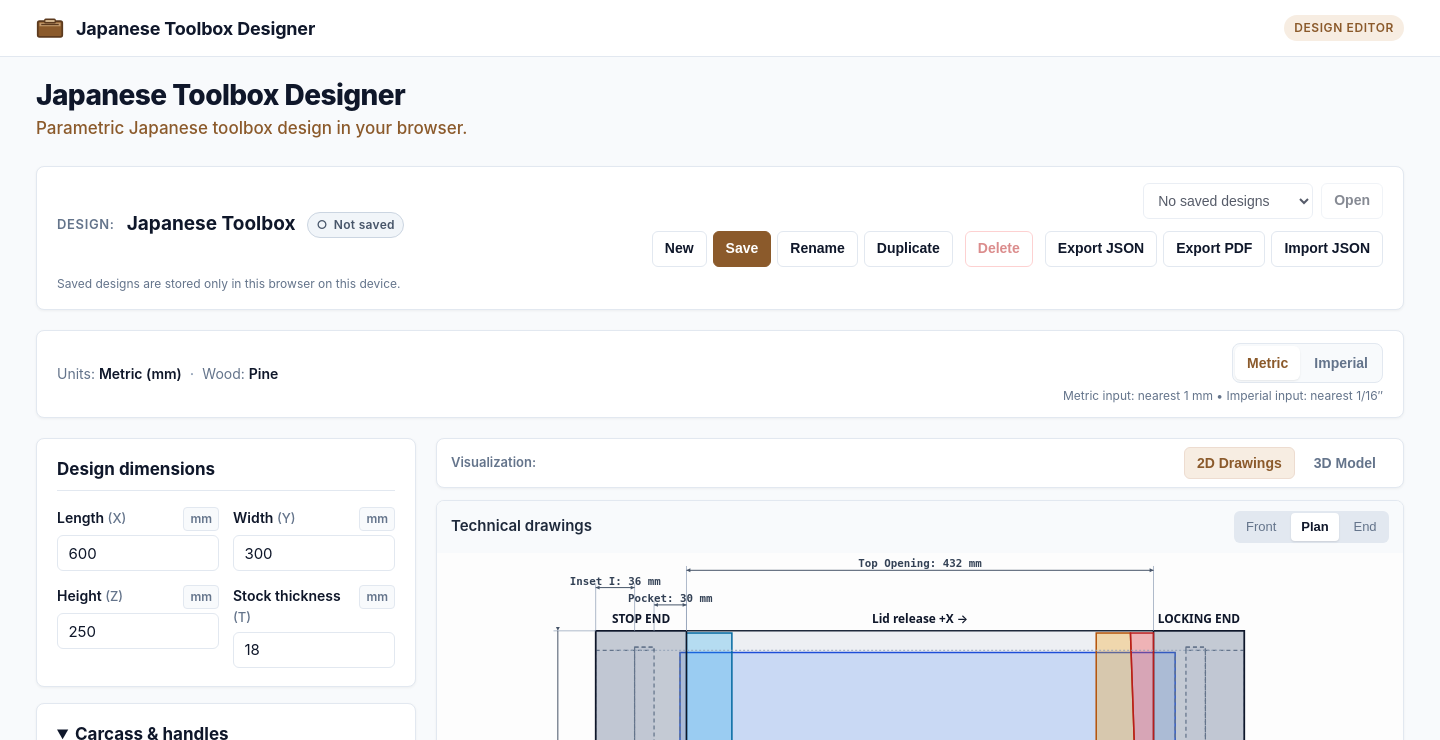
Test: App Component - Phase 7 Saved Designs Requirements › Requirement 53: disables Save and Duplicate when visible drafts contain parse errors
Clear the field labelled "Length (X)" at (138, 553), box [57,535,219,571]
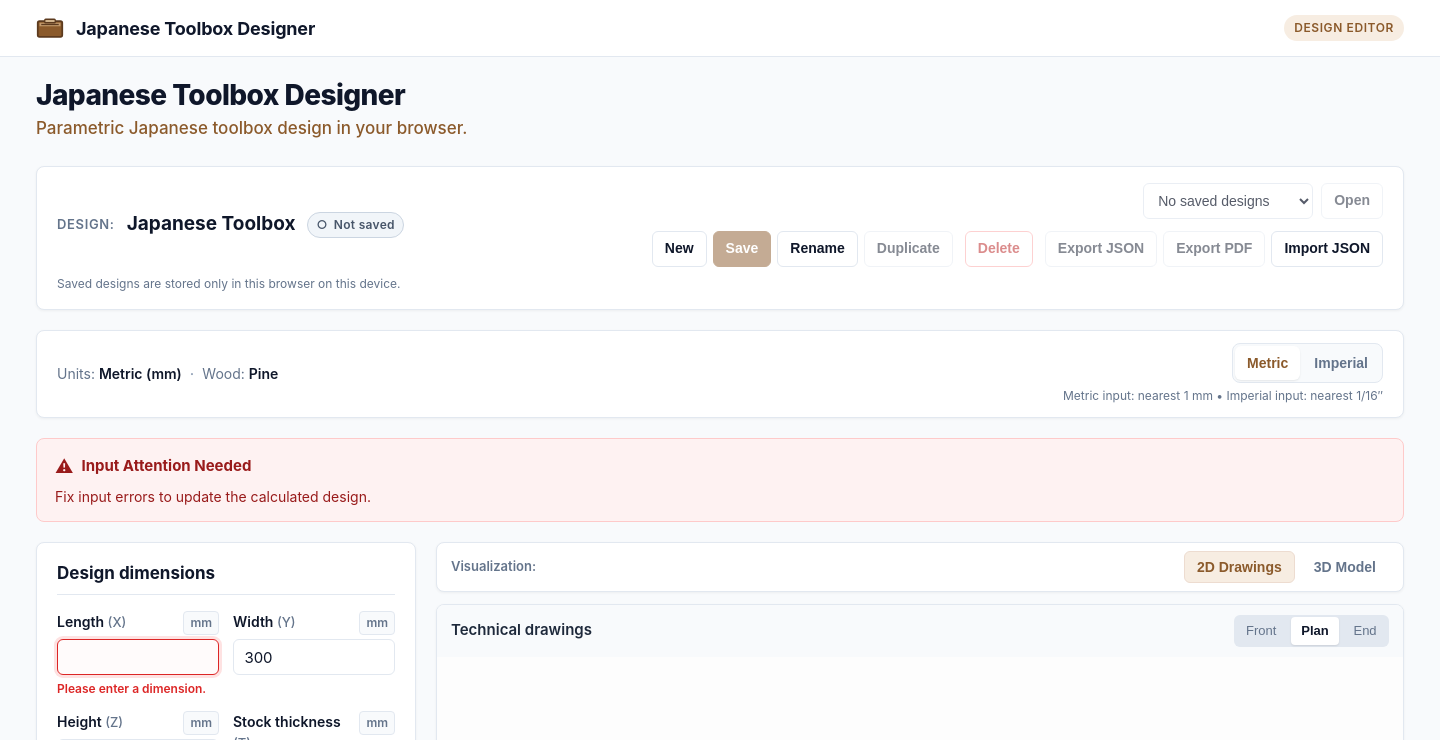
Type "invalid-num" into the field labelled "Length (X)" at (138, 657), box [57,639,219,675]
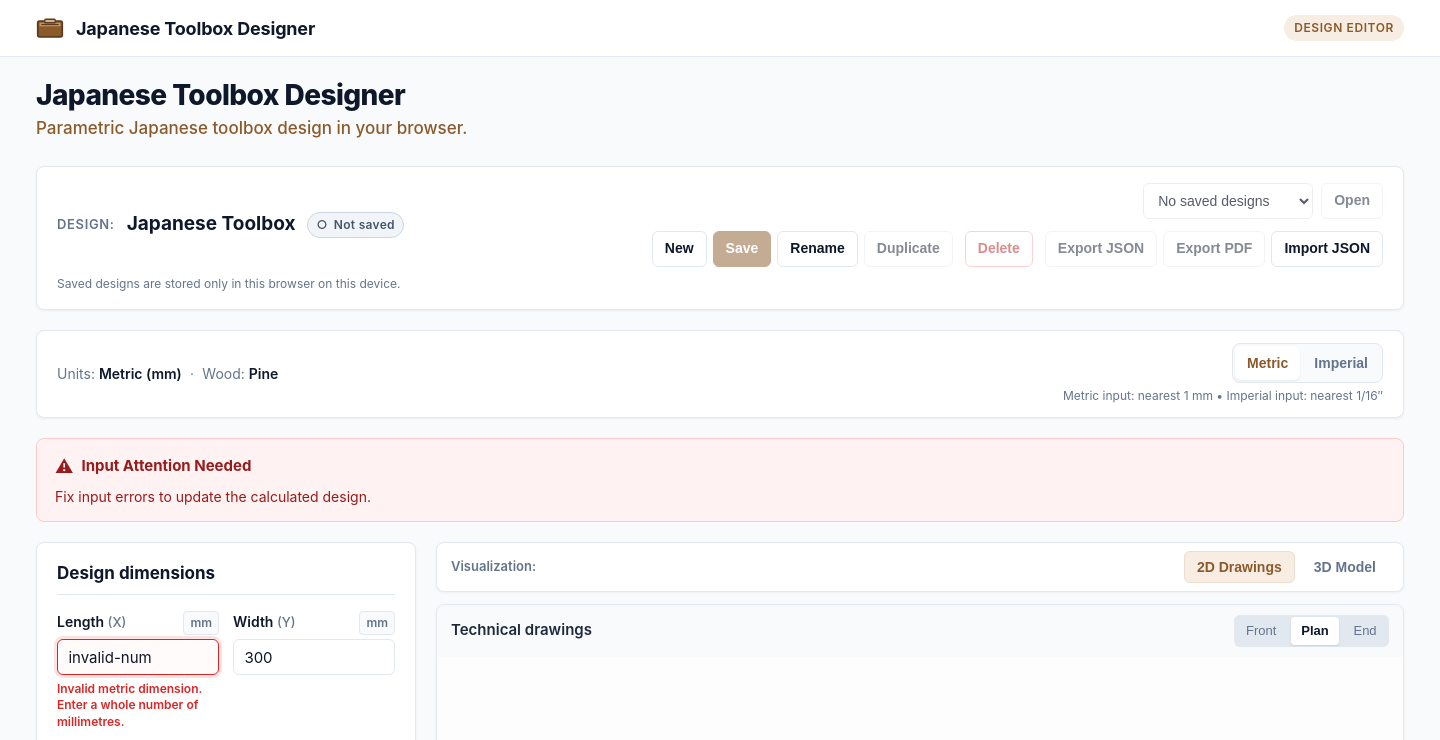
Result: the button "Save" is disabled at [713,231,771,267]
Result: the button "Duplicate" is disabled at [864,231,953,267]
Result: the text "Invalid metric dimension. Enter a whole number of millimetres." is shown at [57,681,219,730]
Note: Correcting the input restores functionality
Replace the text in the field labelled "Length (X)" with "600" at (138, 657), box [57,639,219,675]
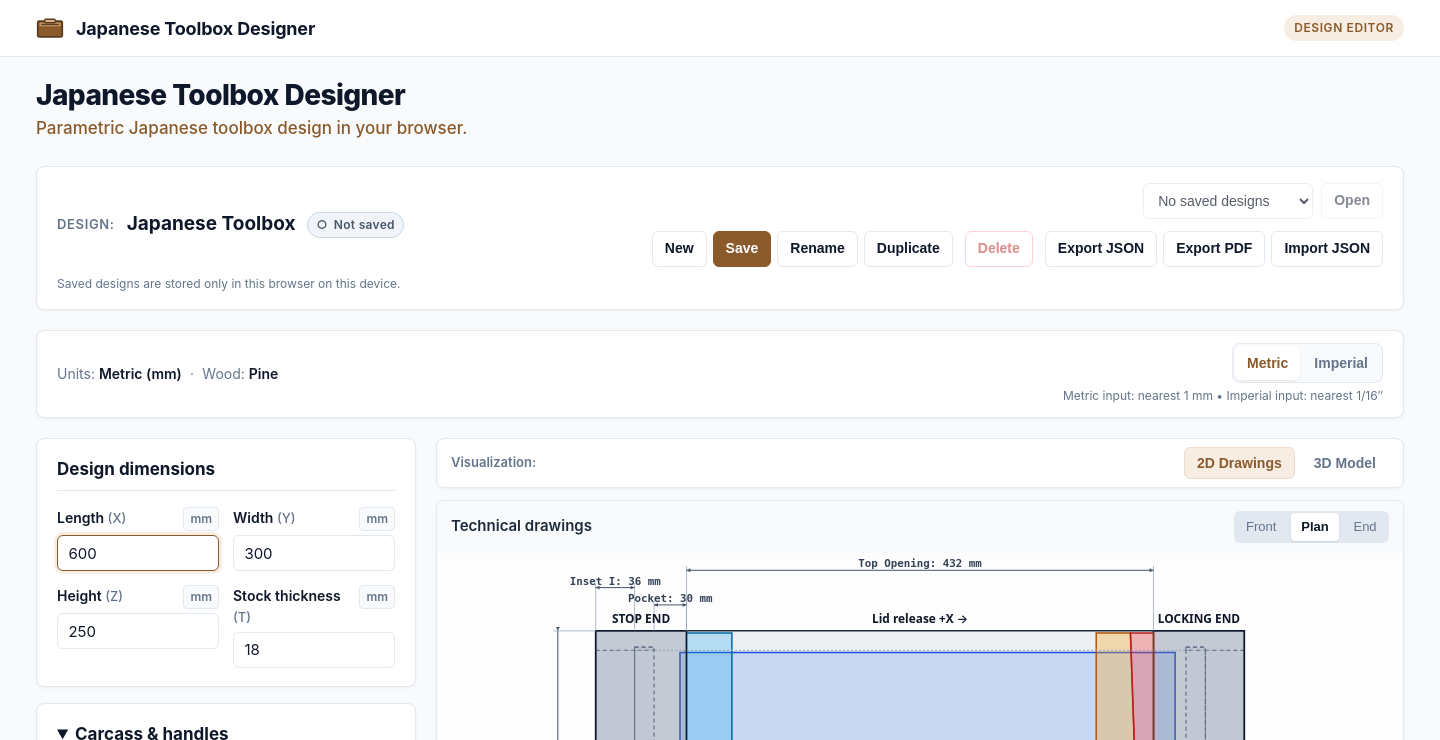
Result: the button "Save" is enabled at [713,231,771,267]
Result: the button "Duplicate" is enabled at [864,231,953,267]
